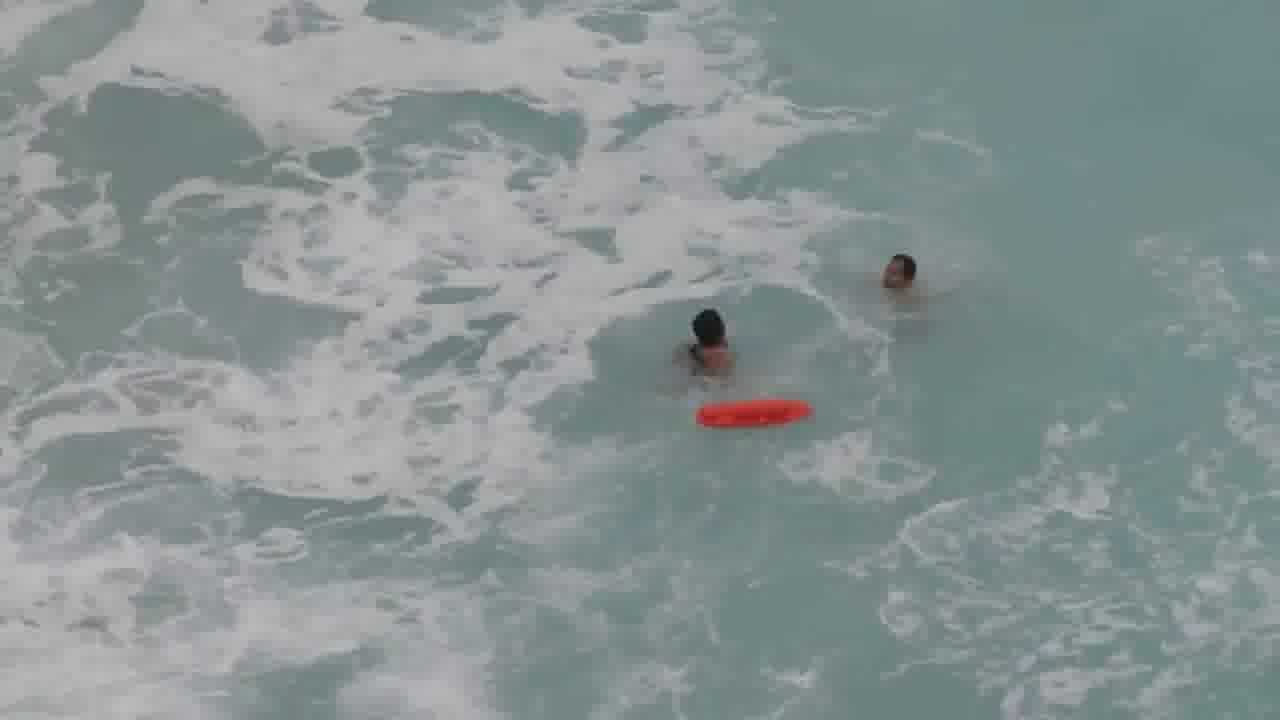swimmer: (677, 296, 737, 370), (866, 243, 925, 311)
